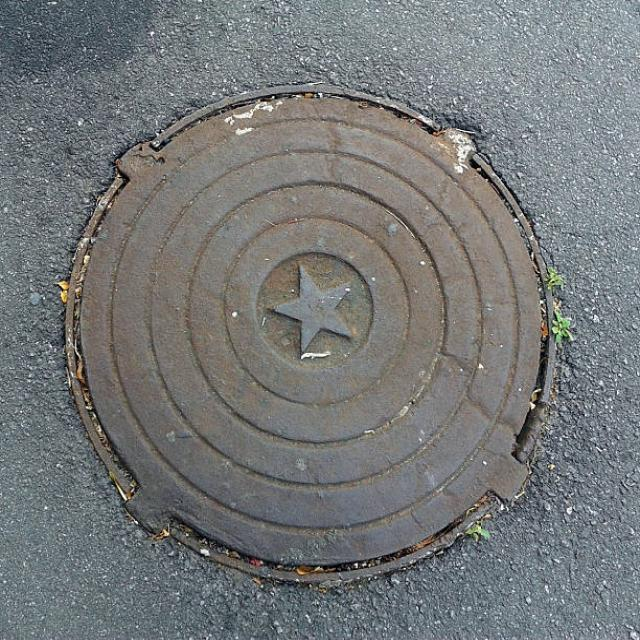Good: (53, 72, 580, 594)
